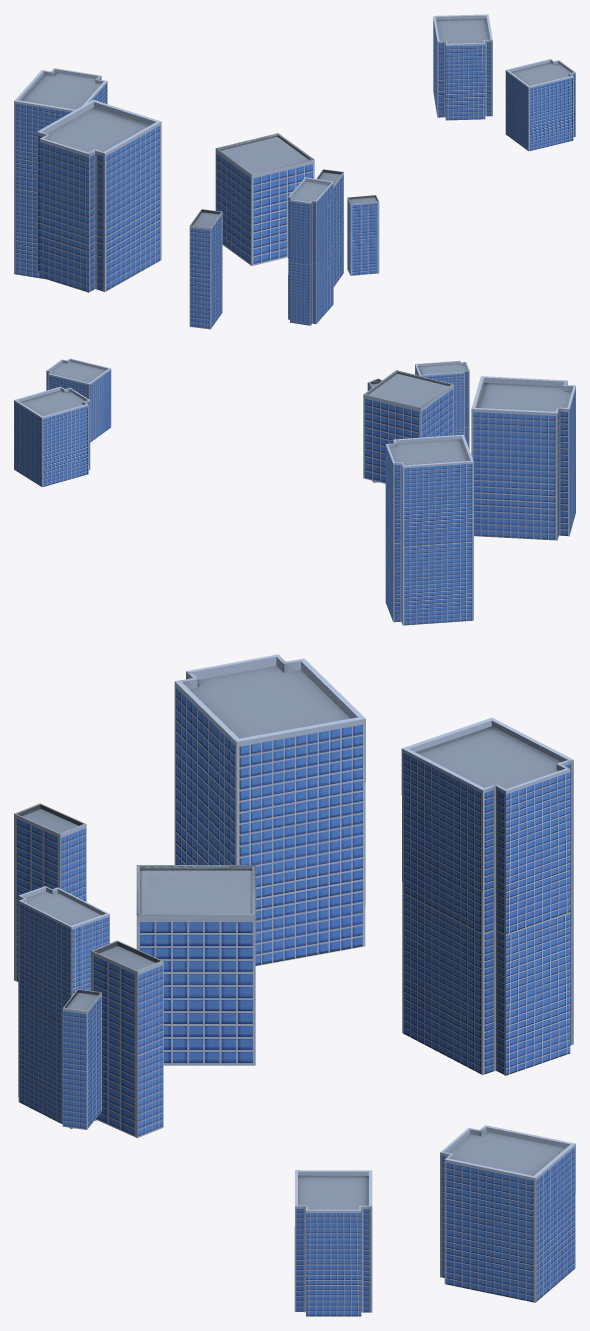
The model's file is Building_A.gltf.
3 renders of one model, top to bottom at view 1: azimuth 30°, elevation 25°; view 2: azimuth 150°, elevation 25°; view 3: azimuth 270°, elevation 25°, orthographic. The views are drawn at different scales.
Parts seen in each view (by area): view 1: Building_A; view 2: Building_A; view 3: Building_A.
Part boxes in pixels (<box>): Building_A: <box>14,14,575,329</box>; Building_A: <box>14,358,575,625</box>; Building_A: <box>14,654,575,1316</box>.
Size of the model in its own units: 6.91 by 2.33 by 3.75.
Materials: 1 (1 with a texture image).
